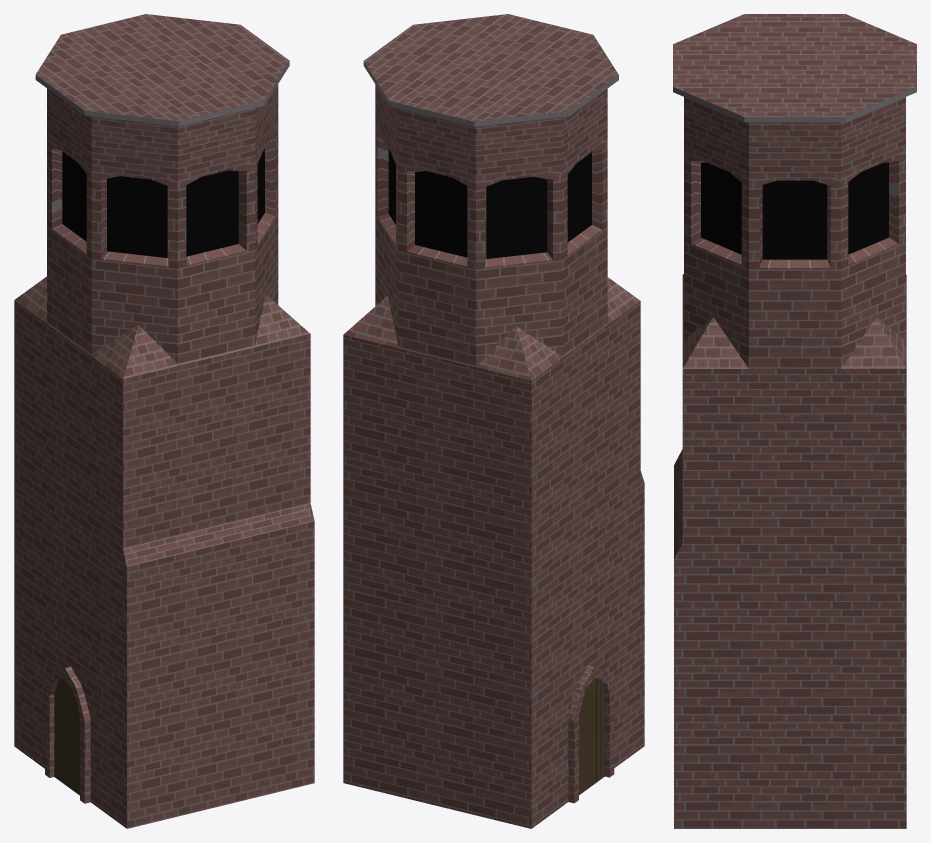
File: plompeTower (2).fbx
3 renders of one model, left to right at view 1: azimuth 30°, elevation 25°; view 2: azimuth 150°, elevation 25°; view 3: azimuth 270°, elevation 25°, orthographic. The views are drawn at different scales.
Visible parts, largest first — view 1: Cube, Cylinder, DoorFrame, DoorFrame.001; view 2: Cube, Cylinder, DoorFrame, DoorFrame.001; view 3: Cube, Cylinder.
Part boxes in pixels (x1,y1,x2,y2): Cube: (14, 276, 314, 828); Cylinder: (35, 14, 289, 363); DoorFrame: (45, 666, 90, 803); DoorFrame.001: (54, 678, 79, 795); Cube: (343, 277, 644, 828); Cylinder: (363, 14, 618, 366); DoorFrame: (568, 666, 614, 803); DoorFrame.001: (579, 678, 604, 794); Cube: (674, 274, 906, 828); Cylinder: (673, 14, 916, 368).
Size of the model in its own units: 1500 by 4860 by 1500.
